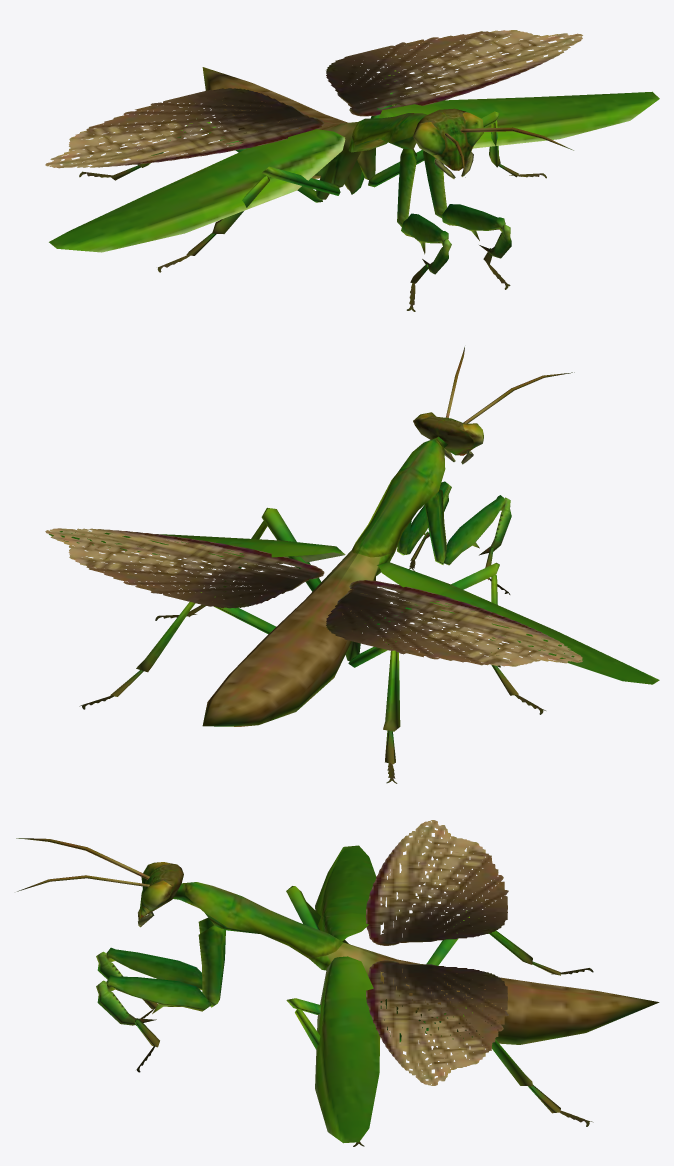
Rendered from mantis.glb.
The picture shows the model from 3 angles, top to bottom: view 1: azimuth 30°, elevation 25°; view 2: azimuth 150°, elevation 25°; view 3: azimuth 270°, elevation 25°; orthographic projection.
Bounding box in the file's own units: 7.63 × 2.31 × 6.95.
Materials: 2 (2 with a texture image).
